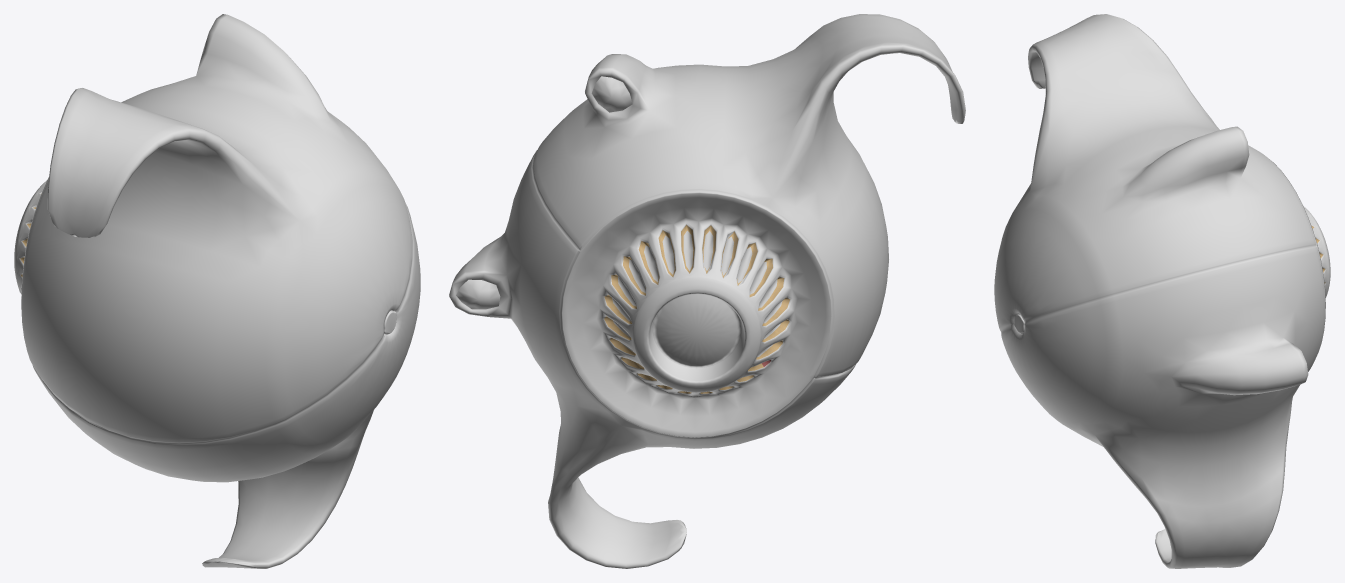
Rendered from Drrone.fbx.
3 views of the same model, side by side, from view 1: azimuth 30°, elevation 25°; view 2: azimuth 150°, elevation 25°; view 3: azimuth 270°, elevation 25° (orthographic). The views are drawn at different scales.
Visible parts, largest first — view 1: drone; view 2: drone; view 3: drone.
Part boxes in pixels (x1,y1,x2,y2): drone: [14, 14, 420, 568]; drone: [449, 14, 965, 568]; drone: [994, 14, 1330, 568].
Size of the model in its own units: 103 by 132 by 86.92.
